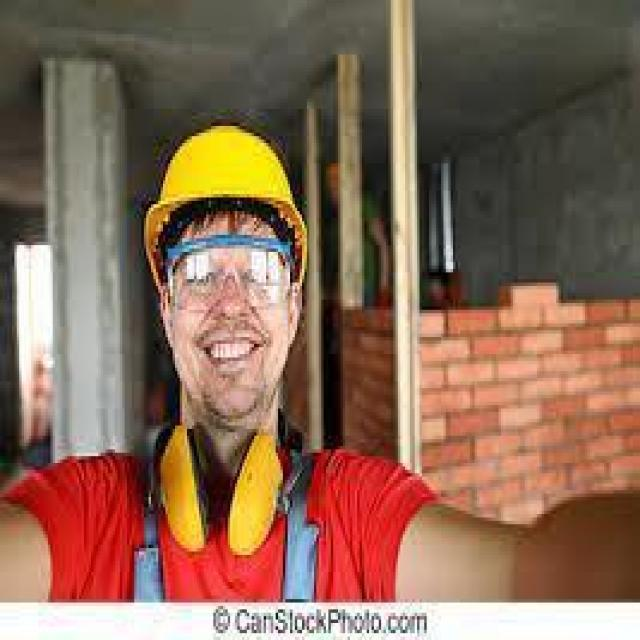hat: (144, 119, 307, 283)
